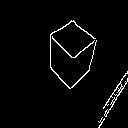cube: (33, 12, 100, 91)
